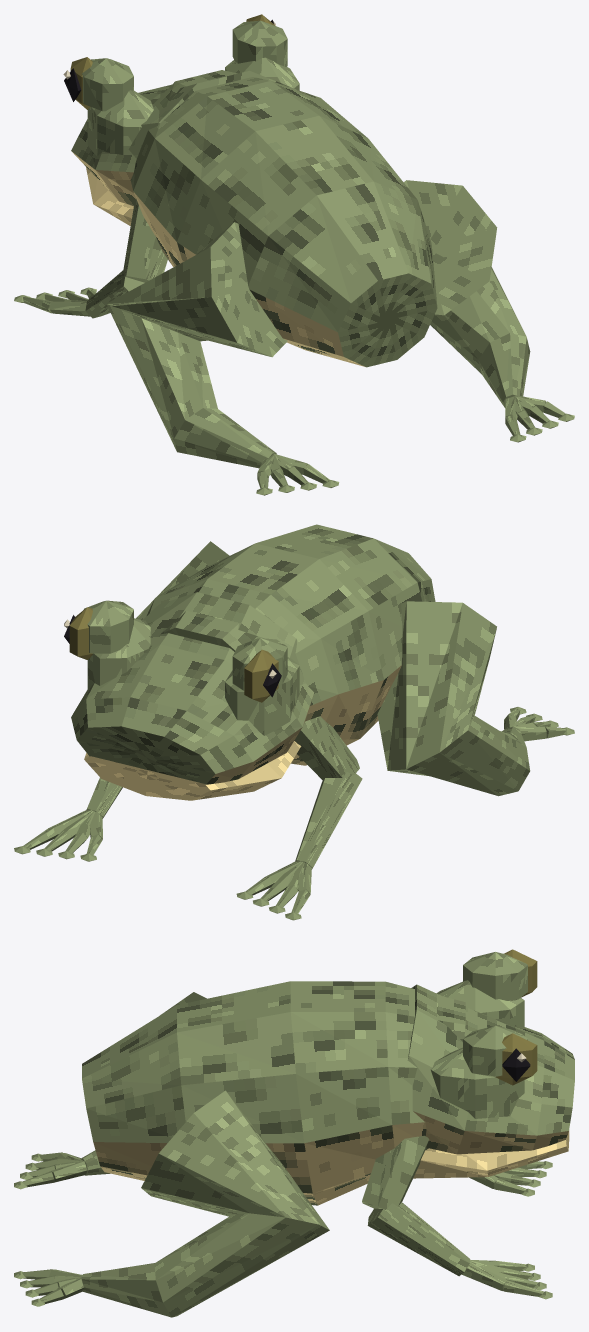
The model's file is mon_jumbo_bigfrog.glb.
The picture shows the model from 3 angles, top to bottom: view 1: azimuth 30°, elevation 25°; view 2: azimuth 150°, elevation 25°; view 3: azimuth 270°, elevation 25°; orthographic projection.
Parts seen in each view (by area): view 1: closed_body; view 2: closed_body; view 3: closed_body.
Boxes of the visible parts, x1,y1,x2,y2 form: closed_body: [14, 14, 574, 495]; closed_body: [14, 524, 574, 920]; closed_body: [14, 949, 574, 1317].
Bounding box in the file's own units: 0.5694 × 0.3938 × 0.7884.
Materials: 1 (1 with a texture image).
